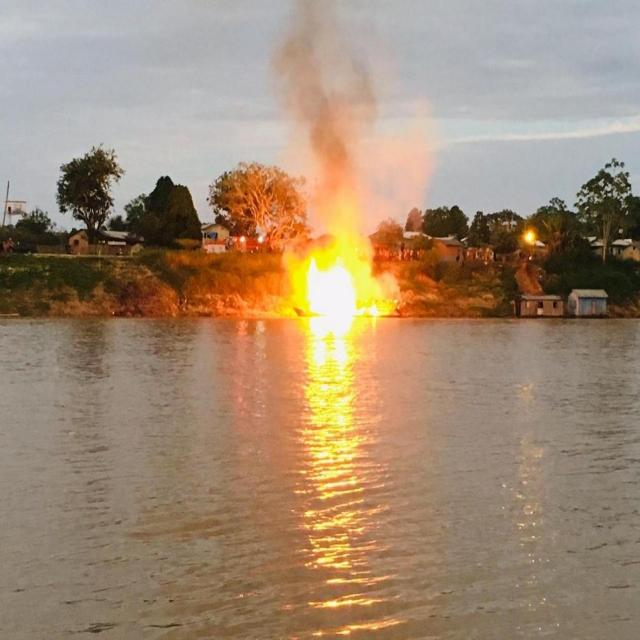fire: (282, 229, 394, 320)
